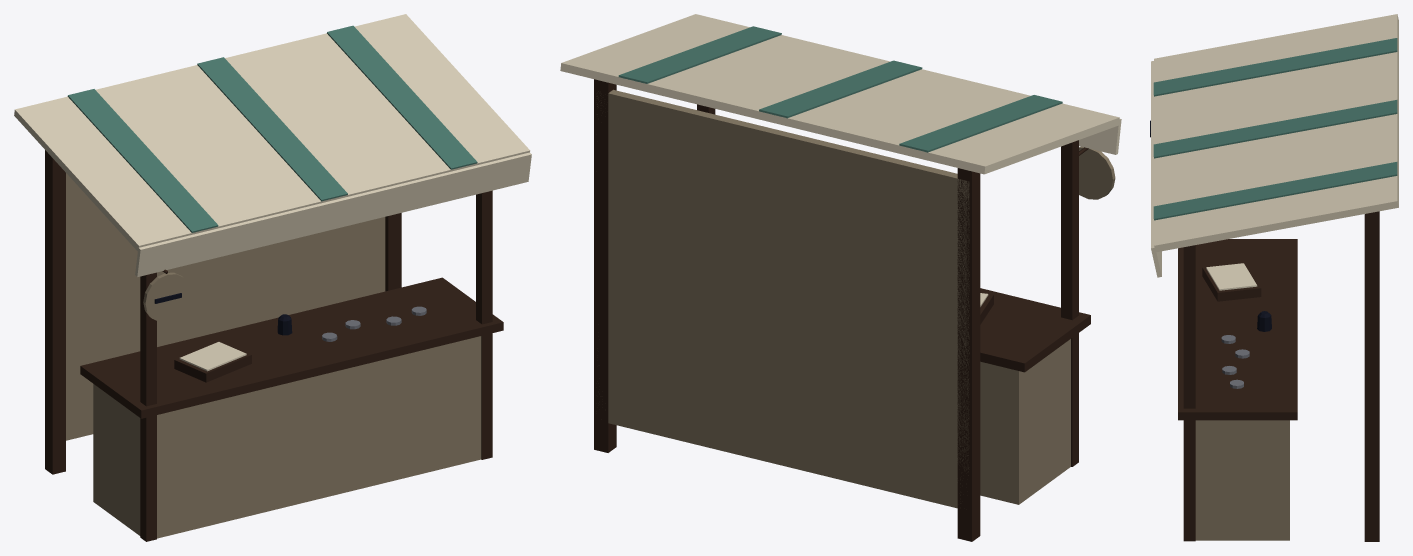
File: stall.glb
3 renders of one model, left to right at view 1: azimuth 30°, elevation 25°; view 2: azimuth 150°, elevation 25°; view 3: azimuth 270°, elevation 25°, orthographic. The views are drawn at different scales.
Visible parts, largest first — view 1: Stall; view 2: Stall; view 3: Stall.
Part boxes in pixels (x1,y1,x2,y2): Stall: [14, 14, 531, 541]; Stall: [560, 14, 1121, 541]; Stall: [1150, 14, 1398, 541].
Bounding box in the file's own units: 2.96 × 2.6 × 1.66.
